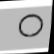no answer: (16, 13, 46, 39)
